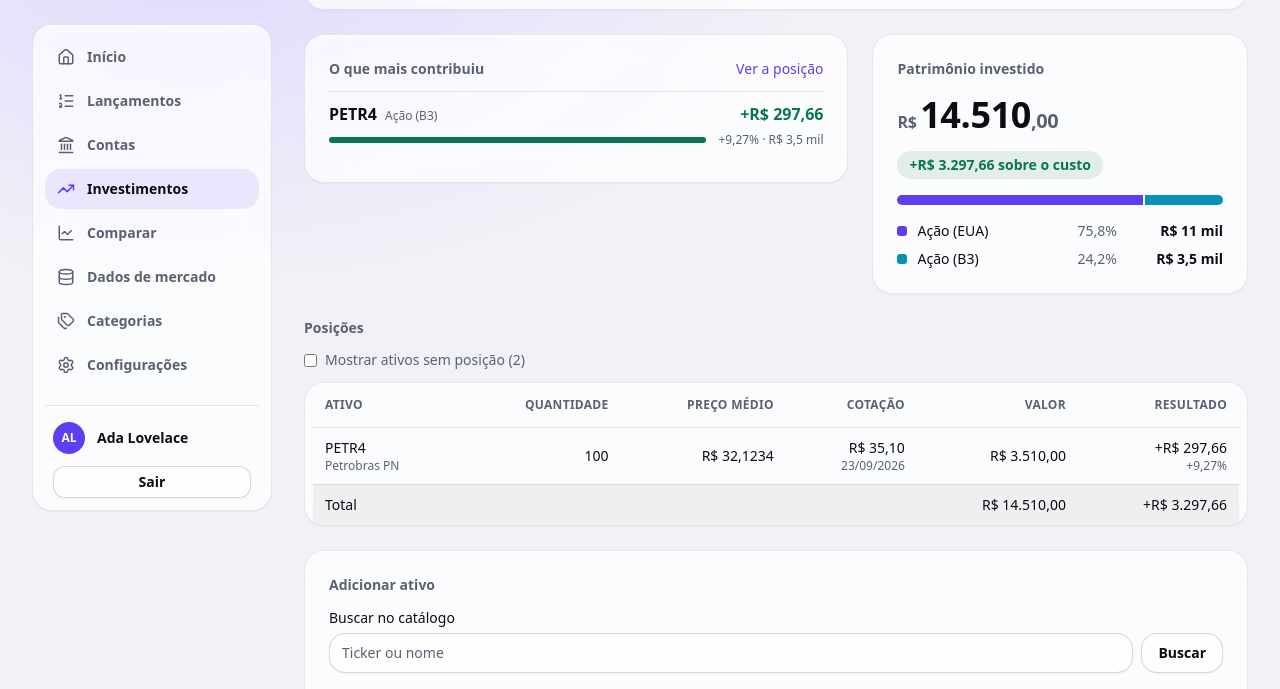
InvestmentsPage: positions › hides positions at zero until asked, then shows them without a valuation where there is none
(page scrolled)
expect the row with test id "position-a-petr4" is shown: met, box [313, 427, 1239, 484]
Click the checkbox labelled "Mostrar ativos sem posição (2)". click: [310, 360]
box: [304, 354, 317, 366]
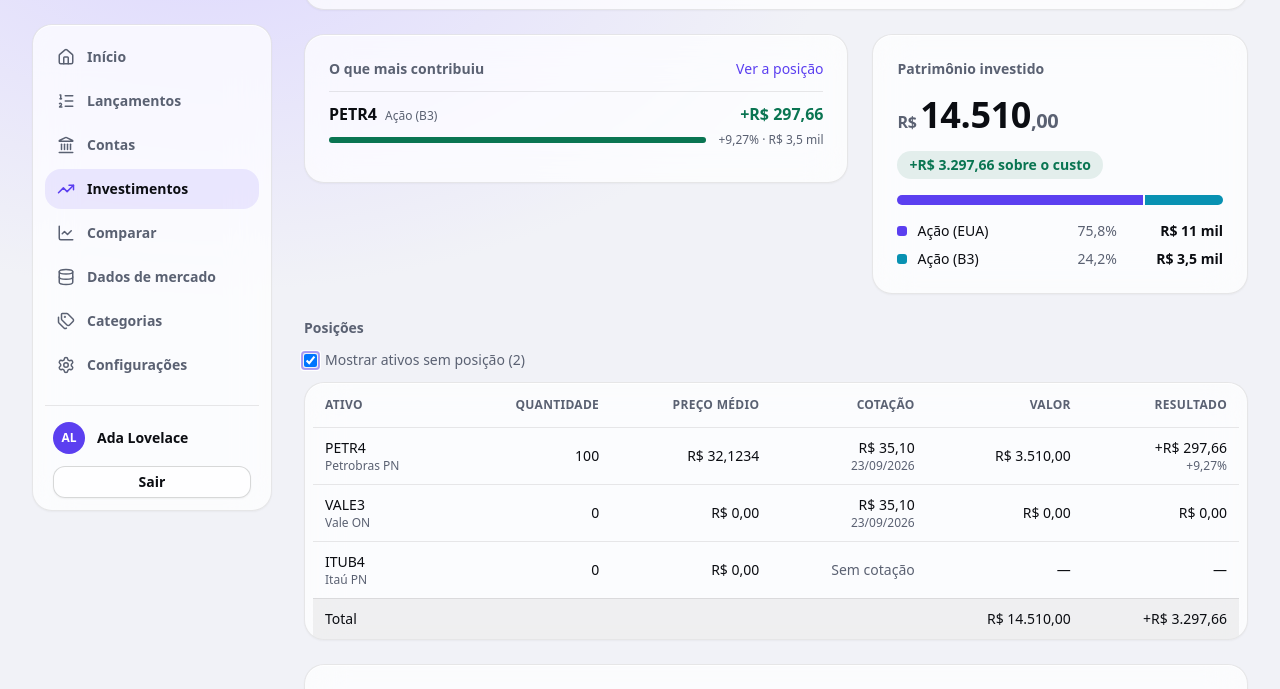
expect the row with test id "position-a-vale3" is shown: met, box [313, 484, 1239, 541]
expect the row with test id "position-a-itub4" shows "Sem cotação": met, box [831, 560, 915, 578]
